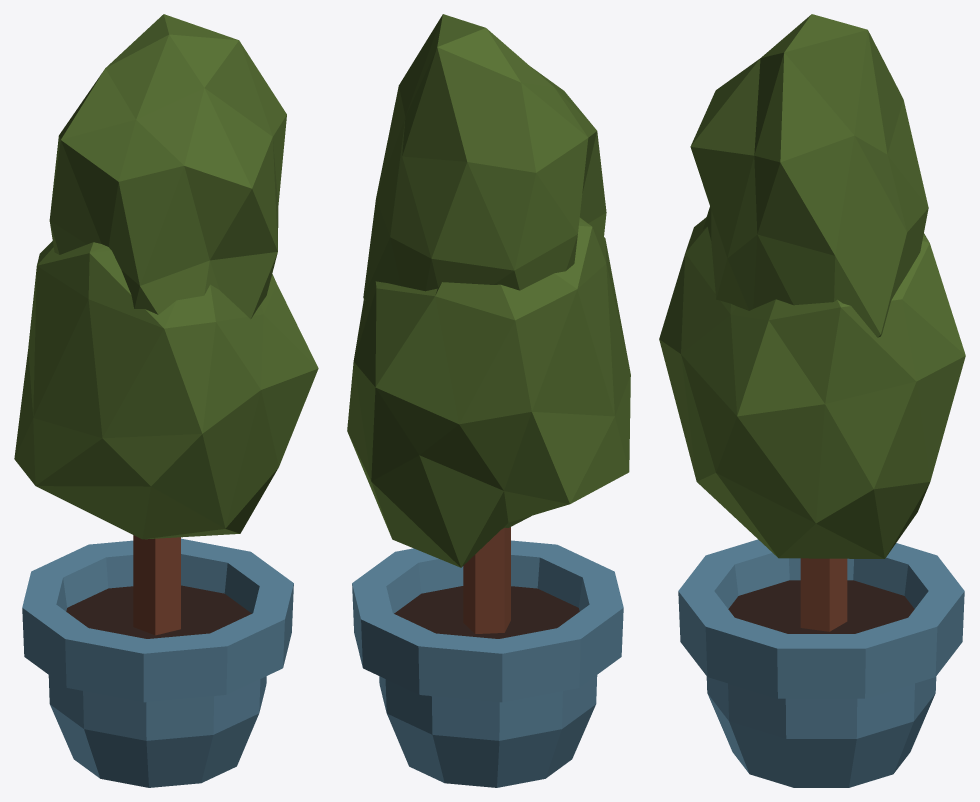
The model's file is officetree1_2.fbx.
3 views of the same model, side by side, from view 1: azimuth 30°, elevation 25°; view 2: azimuth 150°, elevation 25°; view 3: azimuth 270°, elevation 25° (orthographic). The views are drawn at different scales.
Visible parts, largest first — view 1: tree1.002; view 2: tree1.002; view 3: tree1.002.
Boxes of the visible parts, x1,y1,x2,y2 form: tree1.002: (14, 14, 318, 787); tree1.002: (347, 14, 630, 787); tree1.002: (659, 14, 965, 787).
Size of the model in its own units: 79.03 by 215 by 80.7.
